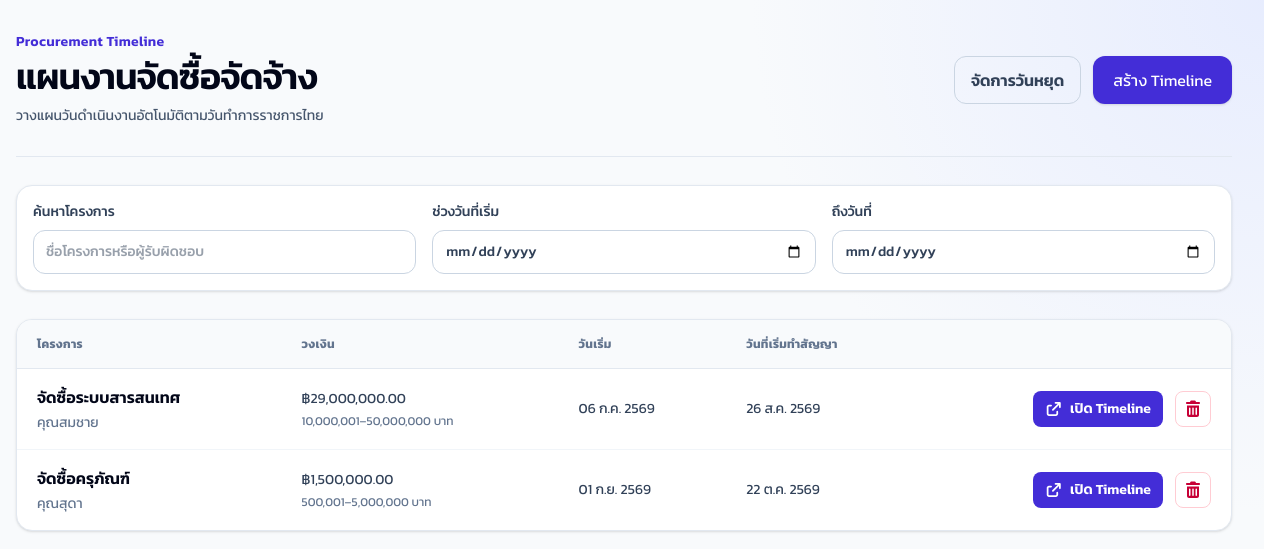
Test: Dashboard › filters projects by project name or owner
In the search field labelled "ค้นหาโครงการ": (225,252) [33,230,416,274], type "สุดา"
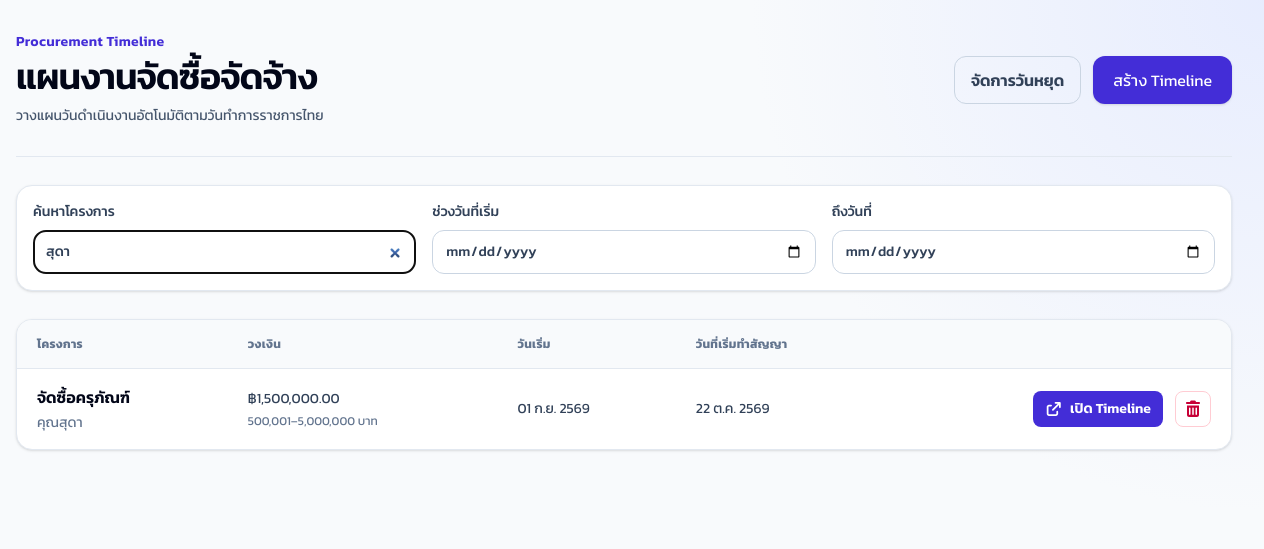
Now the text "จัดซื้อระบบสารสนเทศ" is gone
